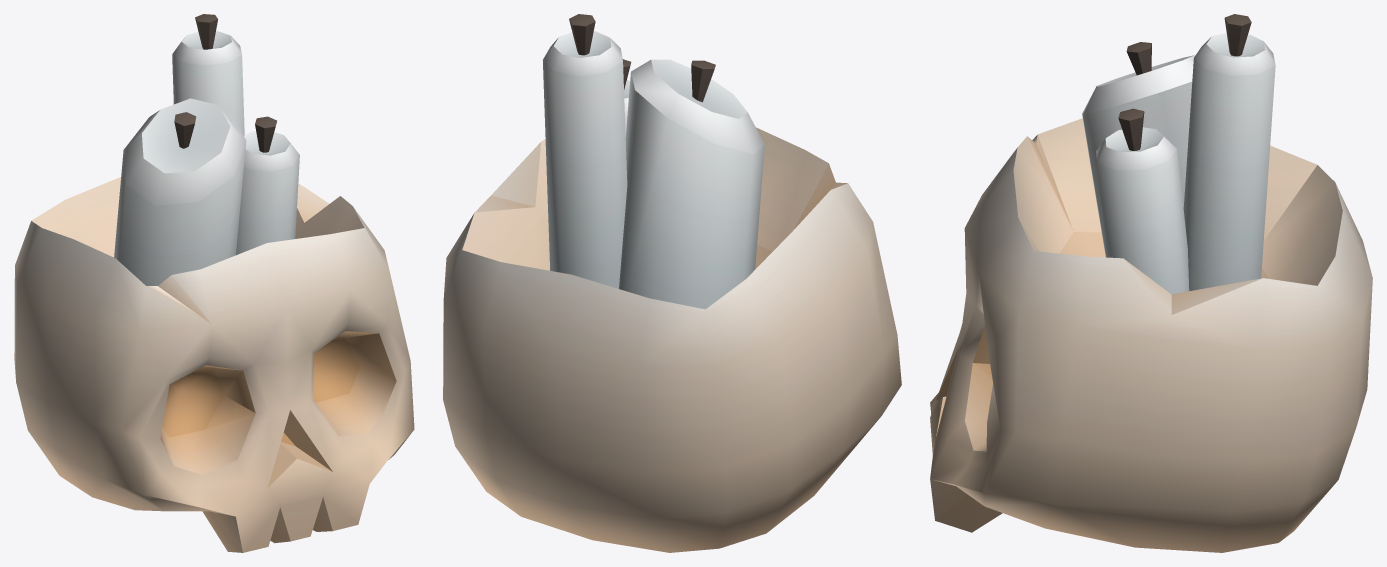
Rendered from Skull Candle by Kay Lousberg - 94tuTO5eJv-transformed.glb.
3 views of the same model, side by side, from view 1: azimuth 30°, elevation 25°; view 2: azimuth 150°, elevation 25°; view 3: azimuth 270°, elevation 25° (orthographic). The views are drawn at different scales.
Parts seen in each view (by area): view 1: skull_candle; view 2: skull_candle; view 3: skull_candle.
Boxes of the visible parts, bbox=[...] form: skull_candle: bbox=[14, 14, 414, 552]; skull_candle: bbox=[443, 14, 901, 552]; skull_candle: bbox=[930, 14, 1372, 552].
Size of the model in its own units: 0.9176 by 1.19 by 0.9361.
Materials: 1 (1 with a texture image).
